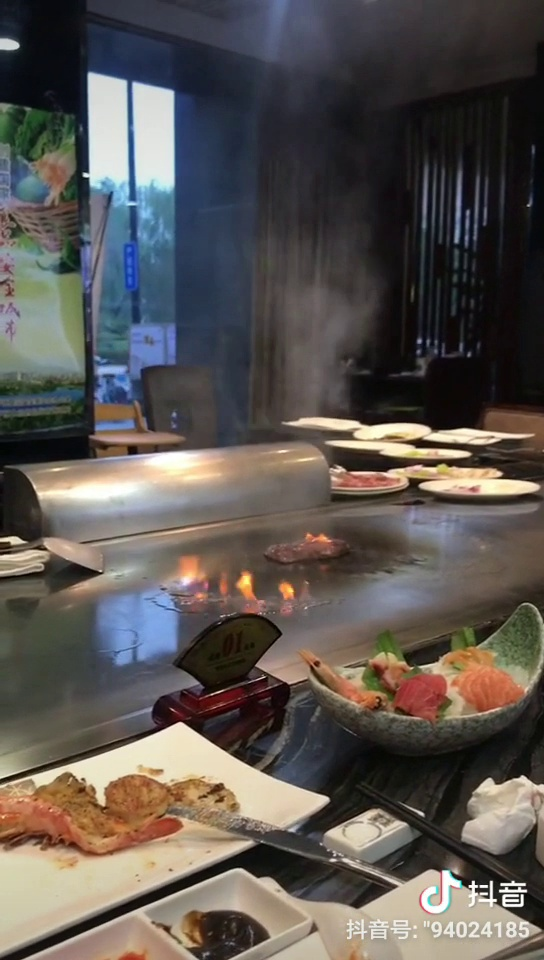fire: (174, 547, 269, 597)
